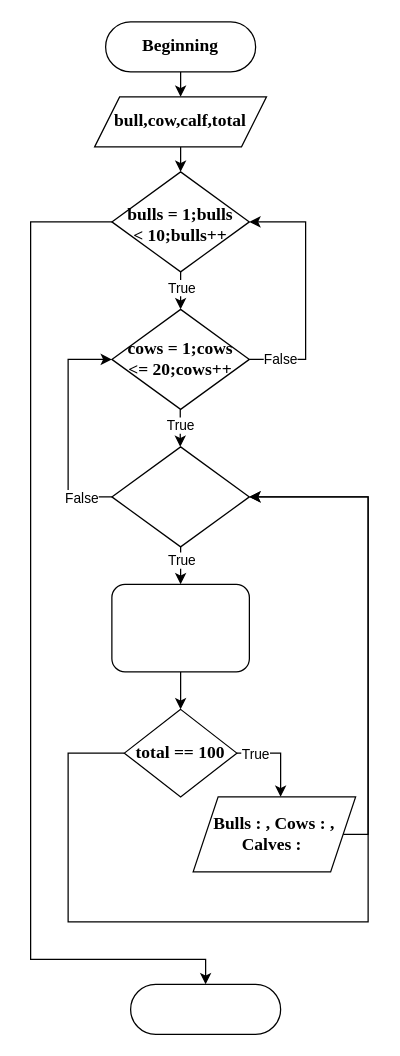
This 400x1056 diagram has some shape labels left out. Each missing label, with the centre of its shape:
"calves = 1;calves <= 200;calves++;" goes at point 180,496.
"End" goes at point 205,1008.
"total = bull * bulls + cow * cows + calf * calves" goes at point 180,627.
